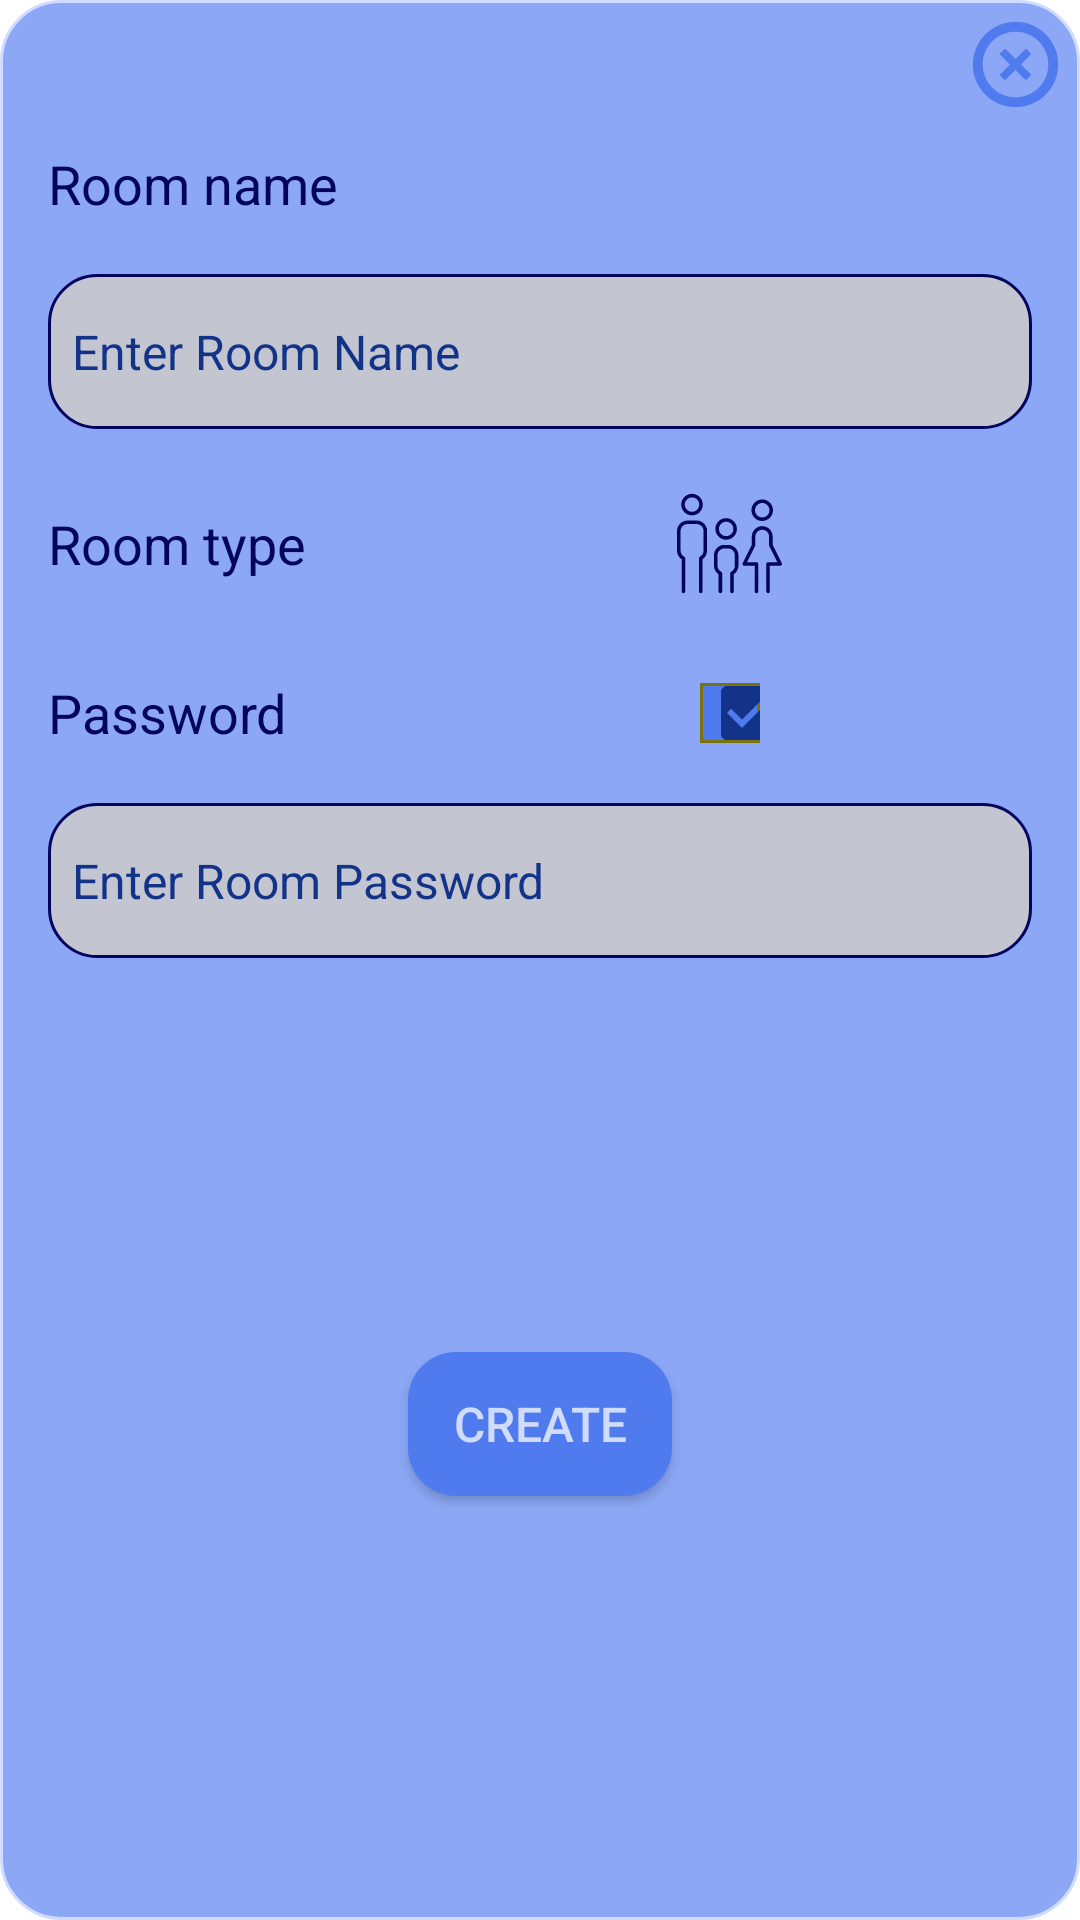

Point at icon controls on the screen. Image size 1080 x 1920, points as (x,y).
cancel: (1015,64)
family room: (729,543)
